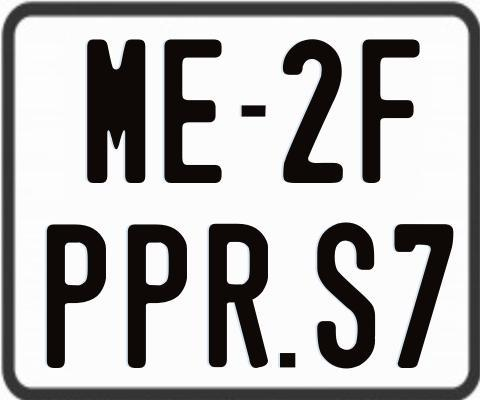2: (281, 39, 344, 187)
7: (394, 221, 457, 366)
E: (162, 39, 225, 186)
F: (360, 38, 424, 188)
M: (85, 39, 146, 186)
P: (128, 223, 192, 368), (47, 222, 108, 371)
R: (207, 221, 271, 367)
S: (314, 220, 378, 368)
